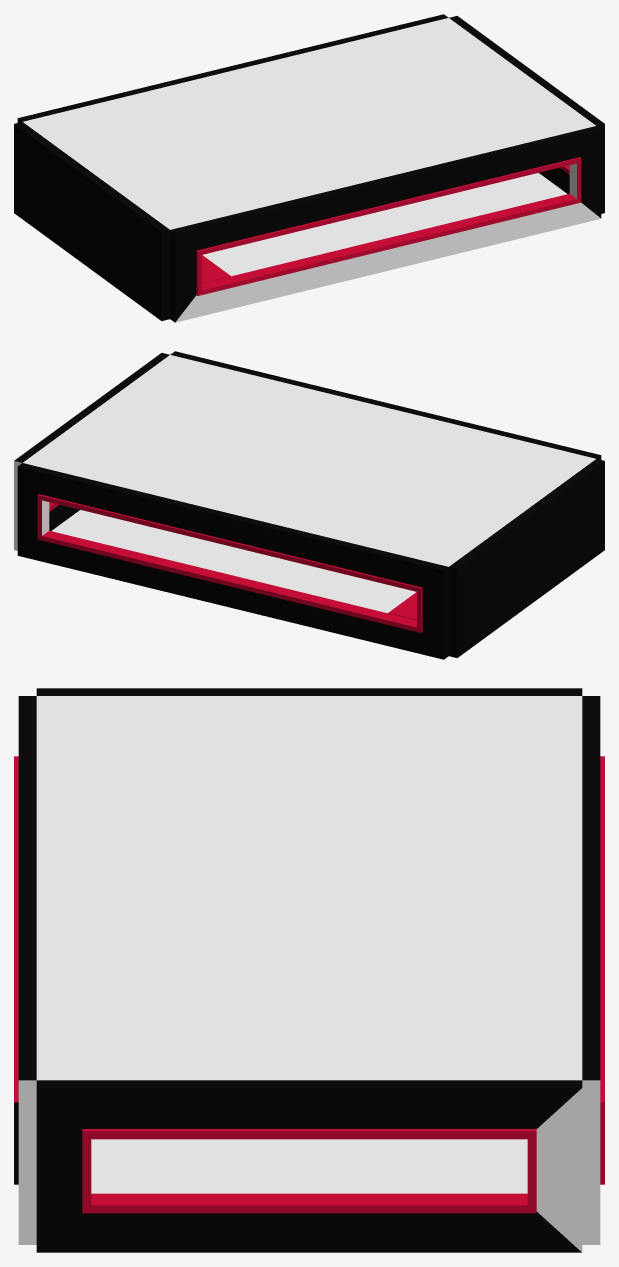
The model's file is ship.fbx.
The picture shows the model from 3 angles, top to bottom: view 1: azimuth 30°, elevation 25°; view 2: azimuth 150°, elevation 25°; view 3: azimuth 270°, elevation 25°; orthographic projection. The views are drawn at different scales.
Visible parts, largest first — view 1: morceaux001, morceaux (×6); view 2: morceaux001, morceaux (×6); view 3: morceaux001, morceaux (×5).
Boxes of the visible parts, bbox=[...] form: morceaux001: bbox=[23, 18, 595, 229]; morceaux (×6): bbox=[14, 14, 604, 322]; morceaux001: bbox=[23, 355, 595, 566]; morceaux (×6): bbox=[14, 351, 604, 659]; morceaux001: bbox=[36, 696, 582, 1080]; morceaux (×5): bbox=[14, 688, 604, 1252].
Bounding box in the file's own units: 105 × 20 × 65.
